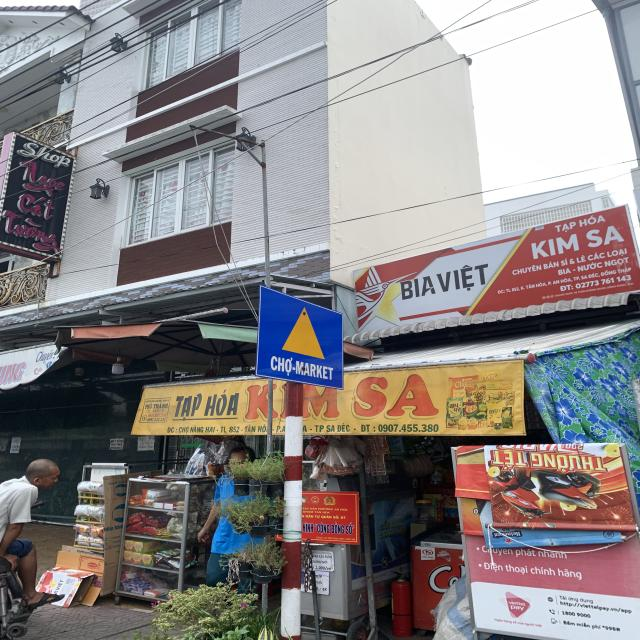Cho_Quay_Xe: (262, 285, 346, 387)
